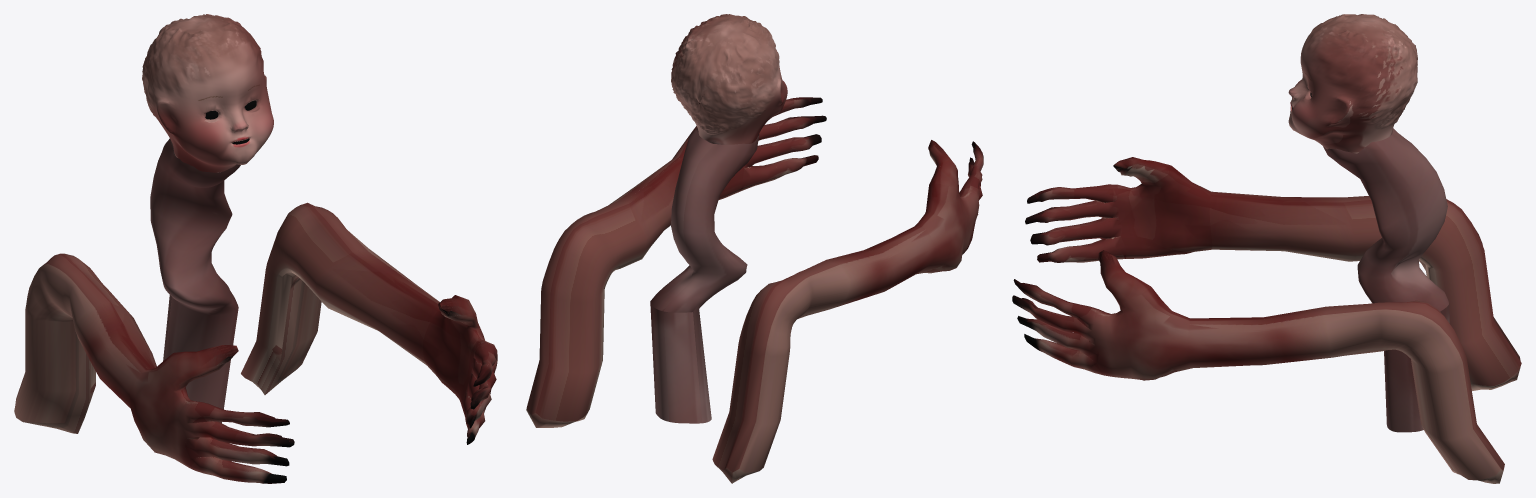
File: cursed doll3.fbx
3 views of the same model, side by side, from view 1: azimuth 30°, elevation 25°; view 2: azimuth 150°, elevation 25°; view 3: azimuth 270°, elevation 25° (orthographic). The views are drawn at different scales.
Visible parts, largest first — view 1: kädet, kaula; view 2: kädet, kaula; view 3: kädet, kaula.
Boxes of the visible parts, x1,y1,x2,y2 form: kädet: [14, 202, 497, 483]; kaula: [142, 14, 273, 422]; kädet: [526, 97, 983, 483]; kaula: [650, 14, 787, 423]; kädet: [1012, 157, 1521, 483]; kaula: [1288, 14, 1449, 432].
Size of the model in its own units: 0.6798 by 0.8636 by 0.9872.
3 materials, 2 textured.
